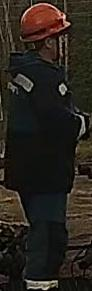helmet: (18, 2, 71, 42)
vest: (2, 52, 82, 194)
